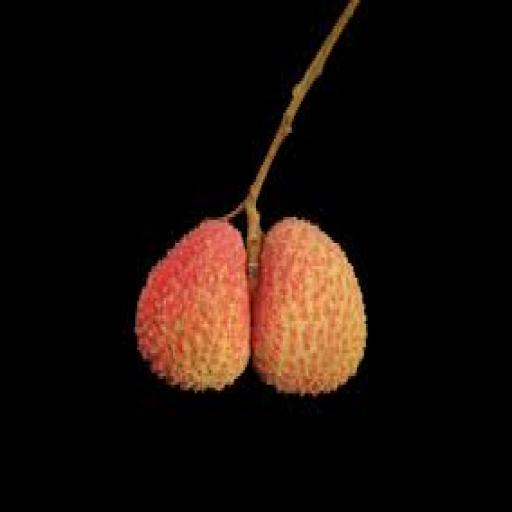lychee: (252, 217, 364, 393), (135, 220, 249, 390)
